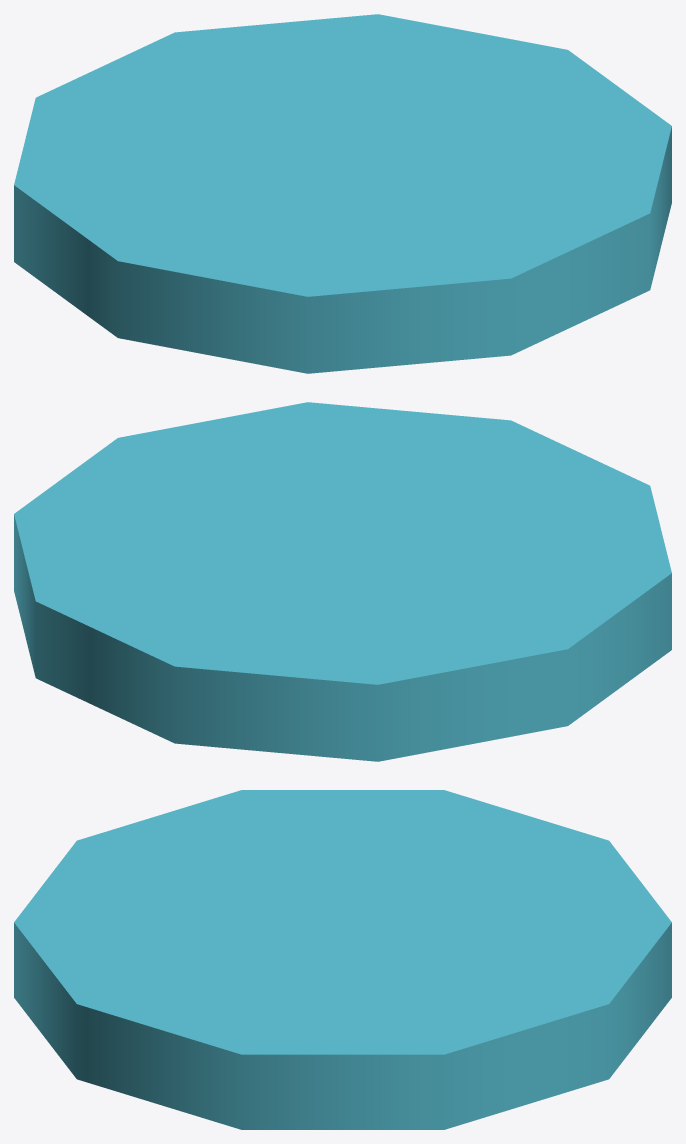
The model's file is Simon dice.fbx.
The picture shows the model from 3 angles, top to bottom: view 1: azimuth 30°, elevation 25°; view 2: azimuth 150°, elevation 25°; view 3: azimuth 270°, elevation 25°; orthographic projection. The views are drawn at different scales.
Parts seen in each view (by area): view 1: Simon_Dice; view 2: Simon_Dice; view 3: Simon_Dice.
Part boxes in pixels (bbox=[...]): Simon_Dice: bbox=[14, 14, 671, 373]; Simon_Dice: bbox=[14, 402, 671, 761]; Simon_Dice: bbox=[14, 790, 671, 1129].
Size of the model in its own units: 0.019 by 0.00252 by 0.02.
